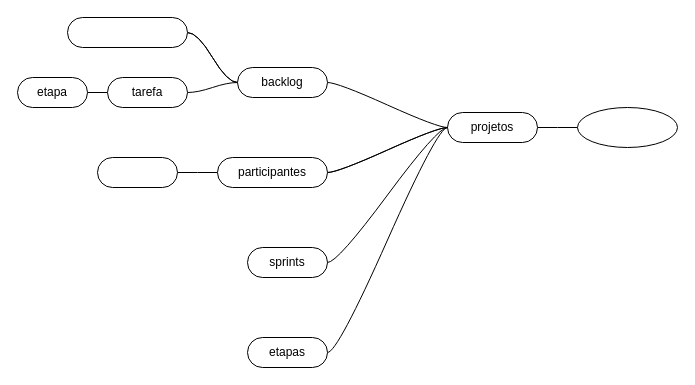
Image size: 695x385. Some labels were removed from this diagram. The box of each missing label's shape, as (x1, y1, x2, y2) in pixels:
cargos: (96, 156, 178, 188)
pieam: (576, 106, 678, 148)
solicitar tarefa: (66, 16, 188, 48)
